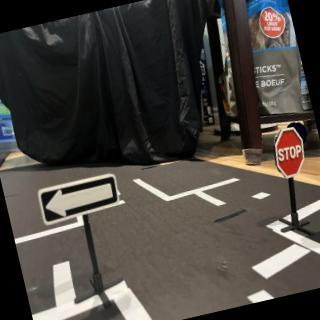sign_oneway_left: (35, 170, 124, 228)
sign_stop: (271, 127, 311, 180)
